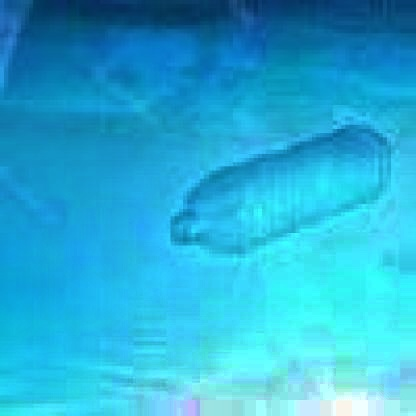pbottle: (154, 112, 391, 266)
